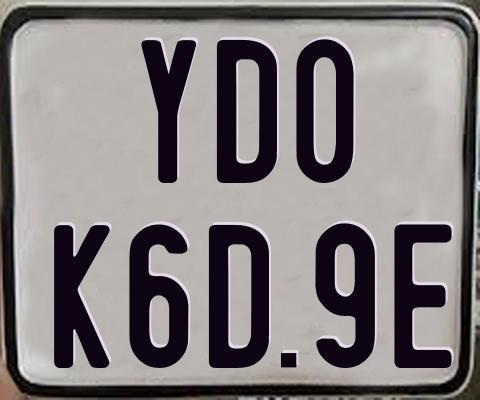0: (293, 39, 356, 185)
6: (127, 223, 188, 370)
9: (313, 223, 379, 369)
D: (215, 37, 280, 183), (208, 222, 270, 367)
E: (393, 224, 455, 370)
K: (54, 224, 110, 369)
Y: (140, 38, 197, 182)
